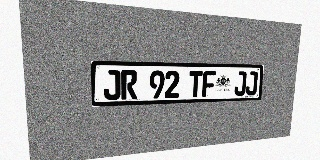2: (165, 70, 180, 98)
9: (150, 70, 165, 99)
F: (202, 71, 216, 97)
J: (103, 70, 121, 100), (234, 71, 247, 96), (245, 71, 258, 95)
R: (121, 70, 137, 100)
T: (189, 71, 203, 97)
